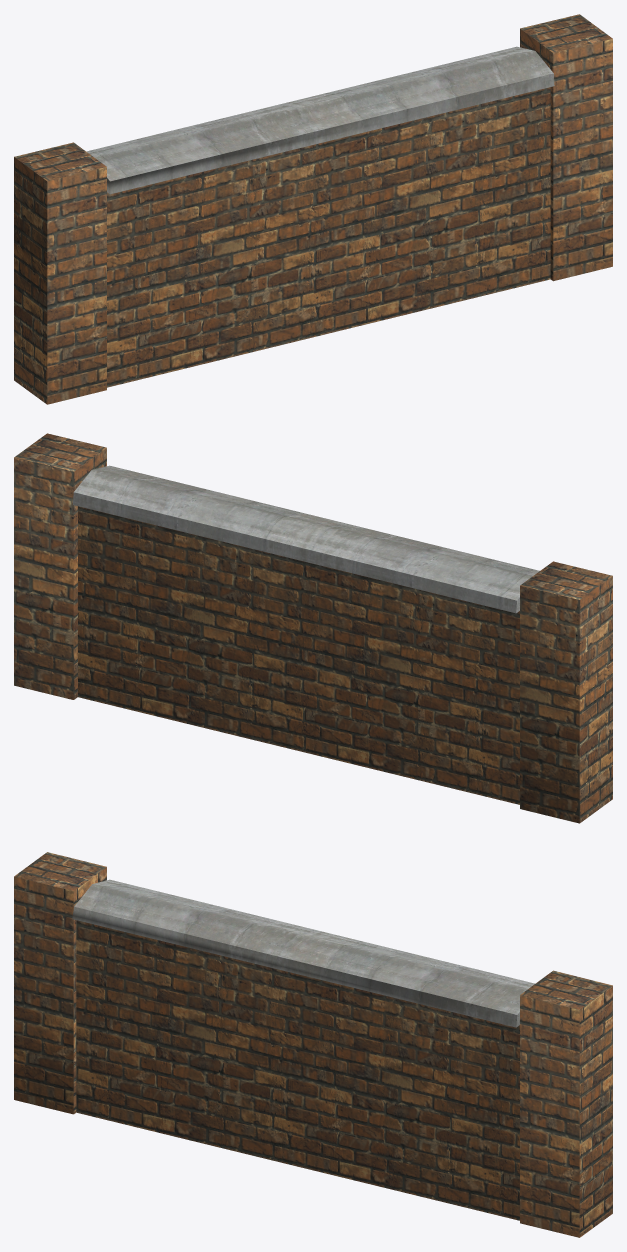
Rendered from Rails_Merged_1_223.FBX.
3 renders of one model, top to bottom at view 1: azimuth 30°, elevation 25°; view 2: azimuth 150°, elevation 25°; view 3: azimuth 330°, elevation 25°, orthographic.
Visible parts, largest first — view 1: Rails_Merged_1_223; view 2: Rails_Merged_1_223; view 3: Rails_Merged_1_223.
Boxes of the visible parts, <box> form: Rails_Merged_1_223: <box>14,14,612,404</box>; Rails_Merged_1_223: <box>14,433,612,823</box>; Rails_Merged_1_223: <box>14,852,612,1237</box>.
Bounding box in the file's own units: 38.11 × 14.7 × 4.49.
Materials: 1 (1 with a texture image).
